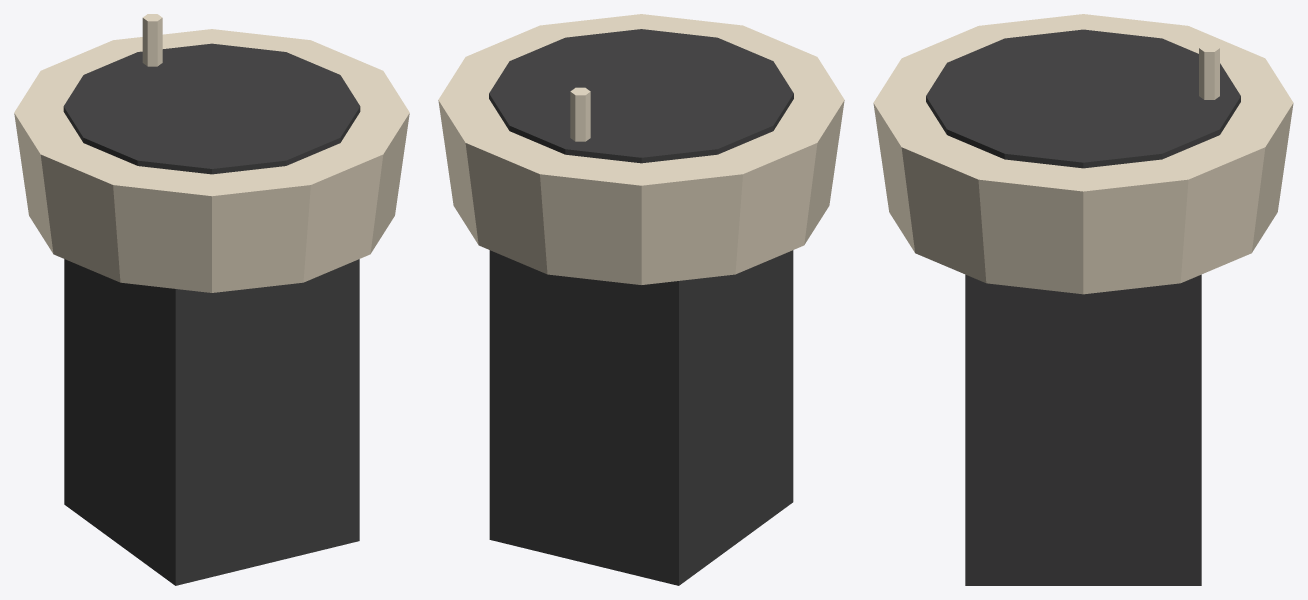
The picture shows the model from 3 angles, left to right: view 1: azimuth 30°, elevation 25°; view 2: azimuth 150°, elevation 25°; view 3: azimuth 270°, elevation 25°; orthographic projection. The views are drawn at different scales.
Visible parts, largest first — view 1: Pedestal, Bowl, Inset, Tap; view 2: Pedestal, Bowl, Inset, Tap; view 3: Pedestal, Bowl, Inset, Tap.
Boxes of the visible parts, bbox=[...] form: Pedestal: bbox=[64, 259, 359, 585]; Bowl: bbox=[14, 29, 409, 292]; Inset: bbox=[63, 43, 360, 174]; Tap: bbox=[142, 14, 162, 66]; Pedestal: bbox=[489, 250, 793, 585]; Bowl: bbox=[438, 14, 844, 284]; Inset: bbox=[489, 29, 793, 163]; Tap: bbox=[570, 87, 590, 141]; Pedestal: bbox=[965, 274, 1201, 585]; Bowl: bbox=[873, 14, 1293, 294]; Inset: bbox=[926, 29, 1240, 168]; Tap: bbox=[1199, 44, 1219, 99].
Bounding box in the file's own units: 80 × 103 × 80.
